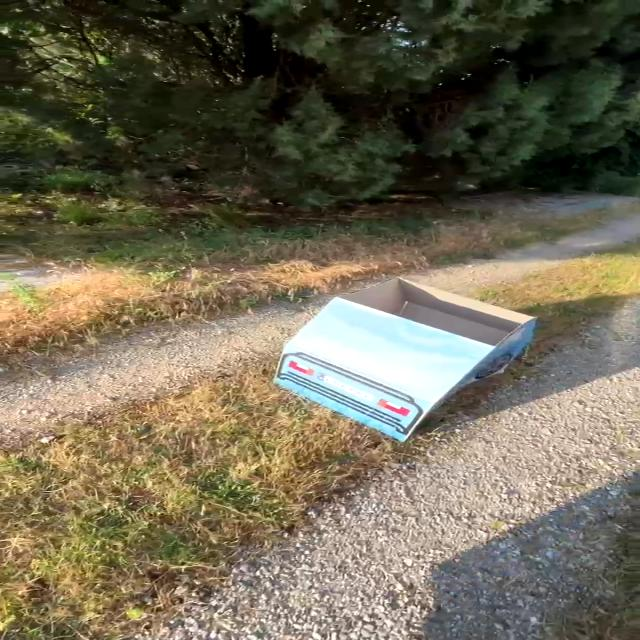blue_car: (225, 258, 569, 455)
